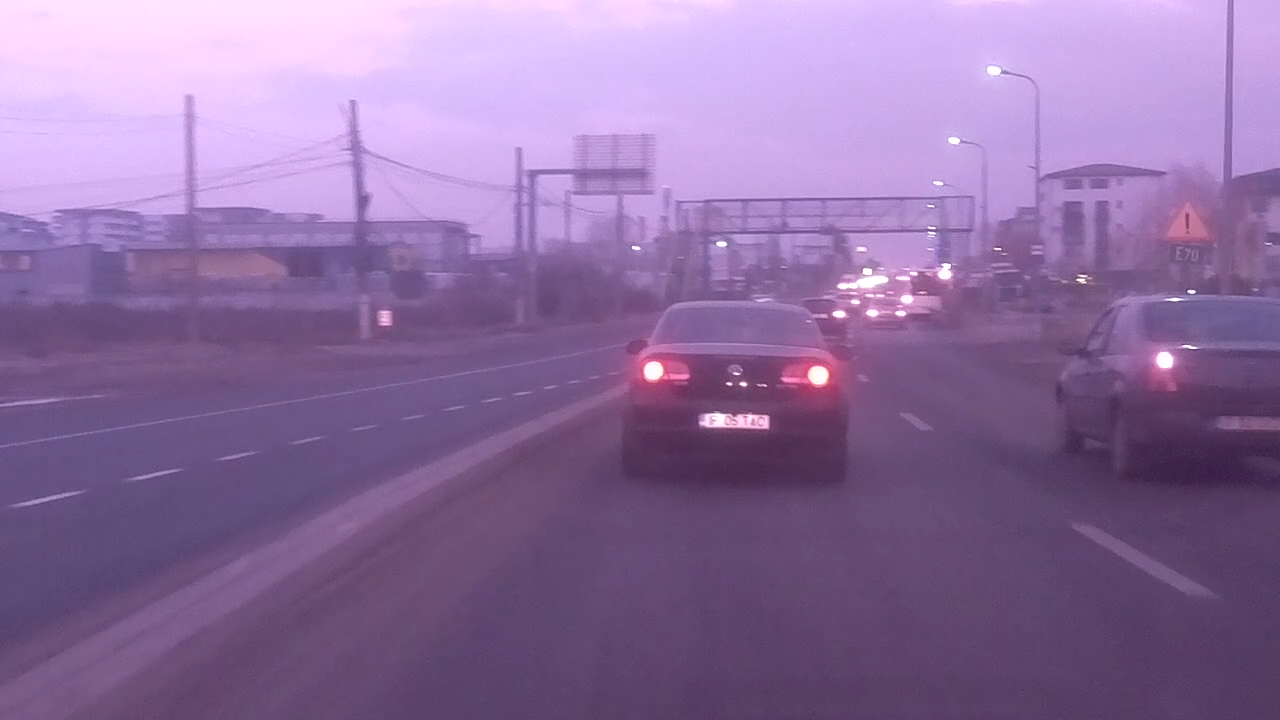license-plate: (696, 409, 773, 432)
